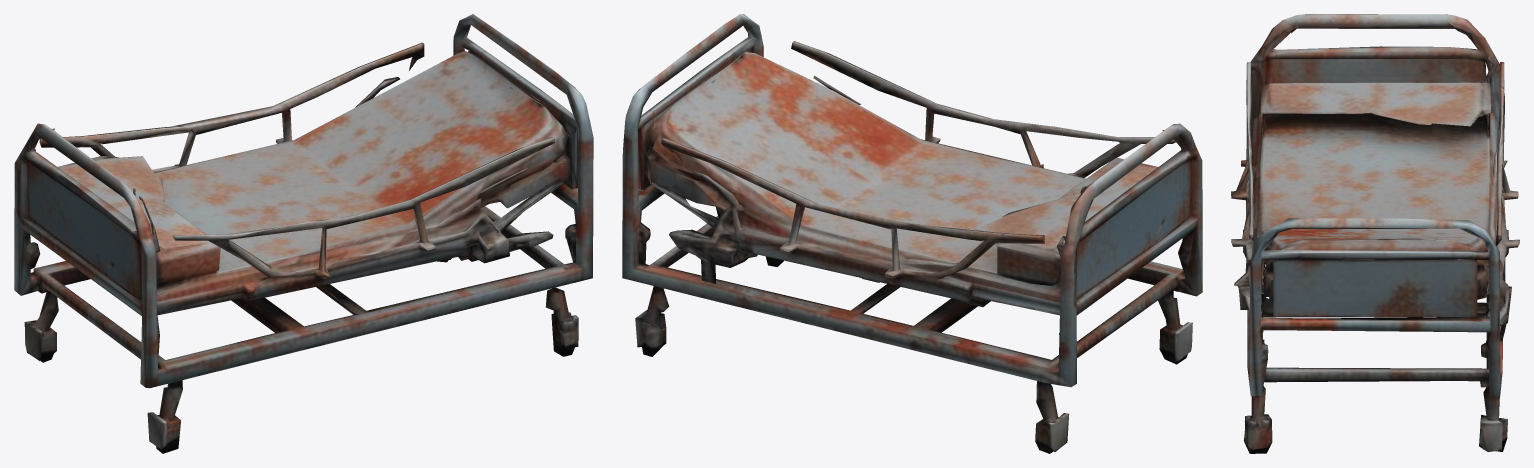
The model's file is hospital_bed.glb.
3 renders of one model, left to right at view 1: azimuth 30°, elevation 25°; view 2: azimuth 150°, elevation 25°; view 3: azimuth 270°, elevation 25°, orthographic. The views are drawn at different scales.
Parts seen in each view (by area): view 1: hospital_bed; view 2: hospital_bed; view 3: hospital_bed.
Boxes of the visible parts, <box> form: hospital_bed: <box>14,14,593,453</box>; hospital_bed: <box>622,14,1202,453</box>; hospital_bed: <box>1231,14,1519,453</box>.
Size of the model in its own units: 0.9991 by 0.5434 by 0.5831.
Materials: 1 (1 with a texture image).
